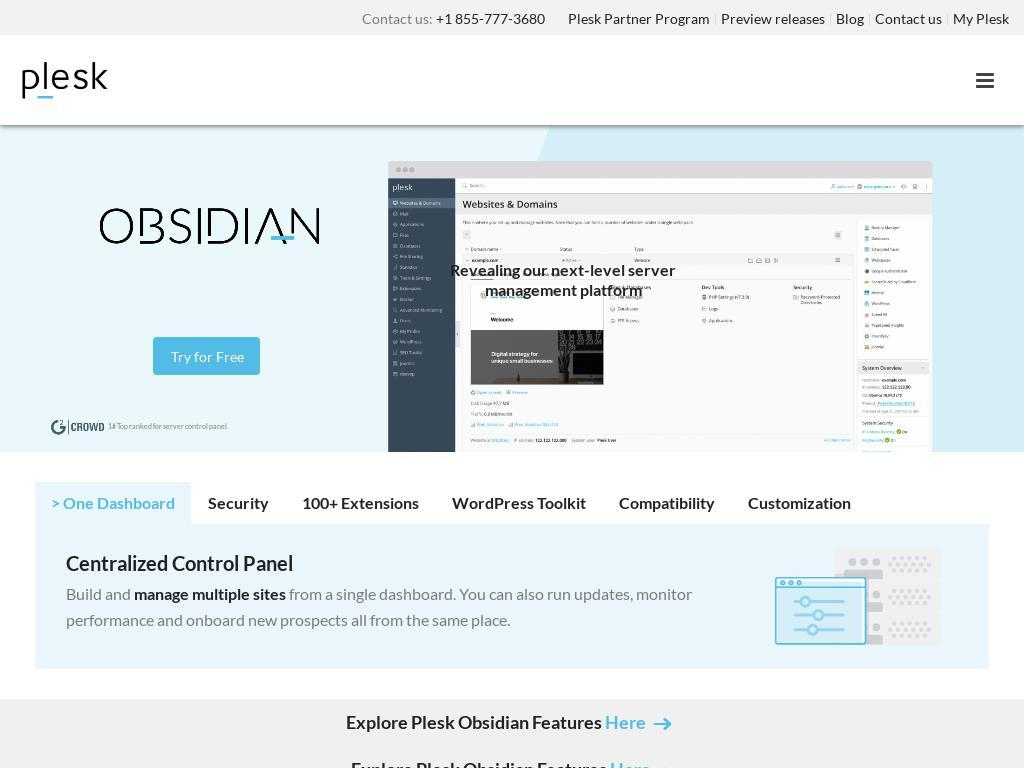button: (436, 482, 602, 524), (35, 482, 191, 524), (286, 482, 435, 524), (732, 482, 867, 524), (603, 482, 731, 524), (192, 482, 285, 524), (563, 14, 716, 25), (716, 14, 831, 25), (870, 14, 948, 25), (948, 14, 1014, 25), (831, 14, 870, 25)
heading: (66, 550, 728, 576), (345, 710, 605, 733), (350, 758, 610, 768), (604, 710, 646, 733), (648, 709, 679, 740), (609, 758, 651, 768), (653, 761, 674, 768)
image: (0, 126, 1024, 452), (382, 157, 938, 452), (757, 540, 958, 654), (98, 203, 321, 249), (20, 36, 110, 126), (153, 337, 261, 375), (51, 419, 159, 452), (976, 72, 994, 76), (976, 78, 994, 82), (976, 84, 994, 88)
link: (436, 10, 545, 27)
text: (66, 584, 692, 629), (108, 418, 1024, 437), (450, 259, 677, 279), (153, 337, 261, 375), (484, 279, 642, 299), (134, 584, 286, 603), (568, 10, 710, 27), (721, 10, 825, 27), (66, 584, 134, 603), (362, 10, 436, 27), (875, 10, 942, 27), (953, 10, 1009, 27), (836, 10, 864, 27)
